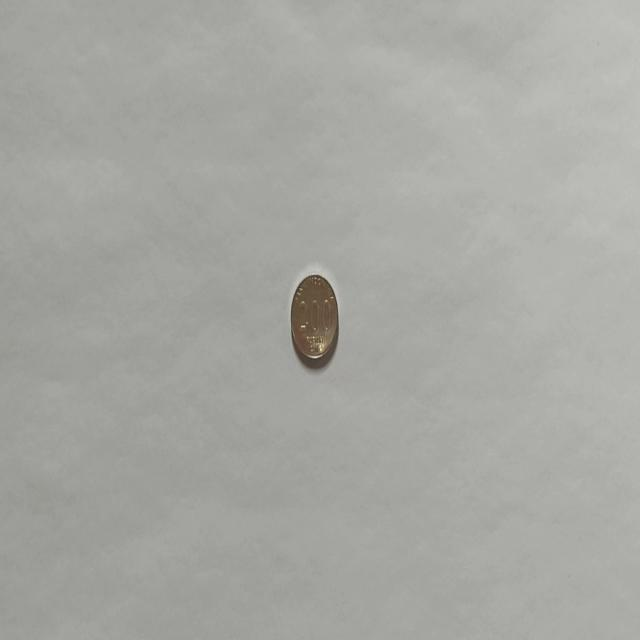dua ratus rupiah: (289, 271, 339, 365)
